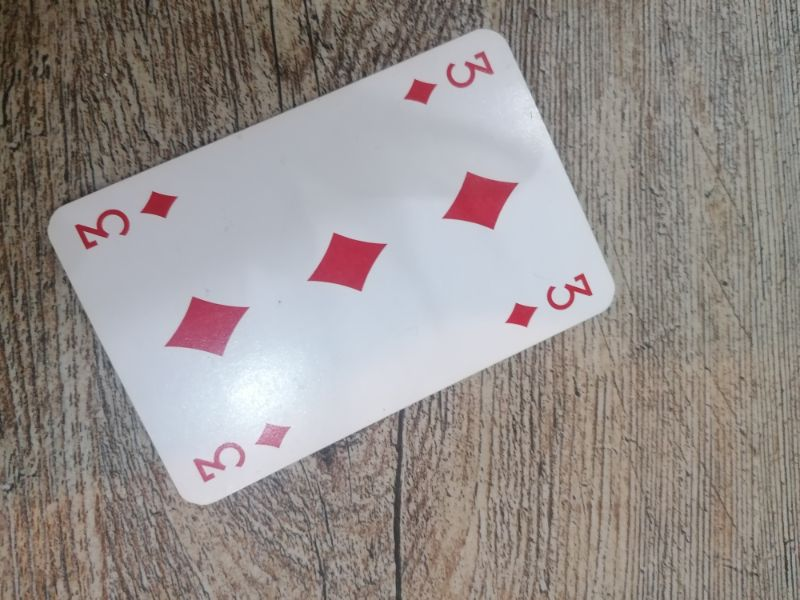3d: (73, 184, 183, 252), (192, 418, 295, 485), (503, 267, 596, 330), (401, 47, 498, 107)
